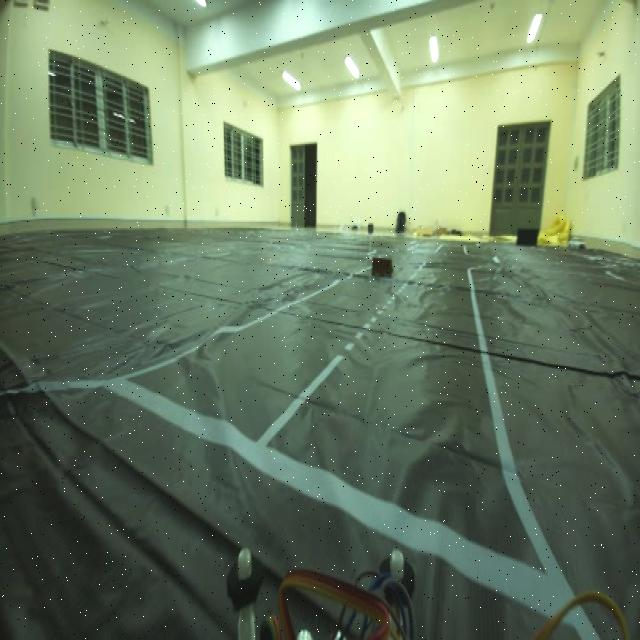roadblock: (368, 252, 396, 285)
